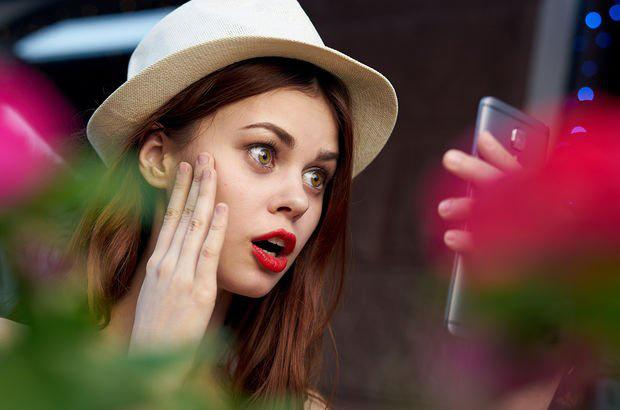face: (204, 88, 339, 300)
